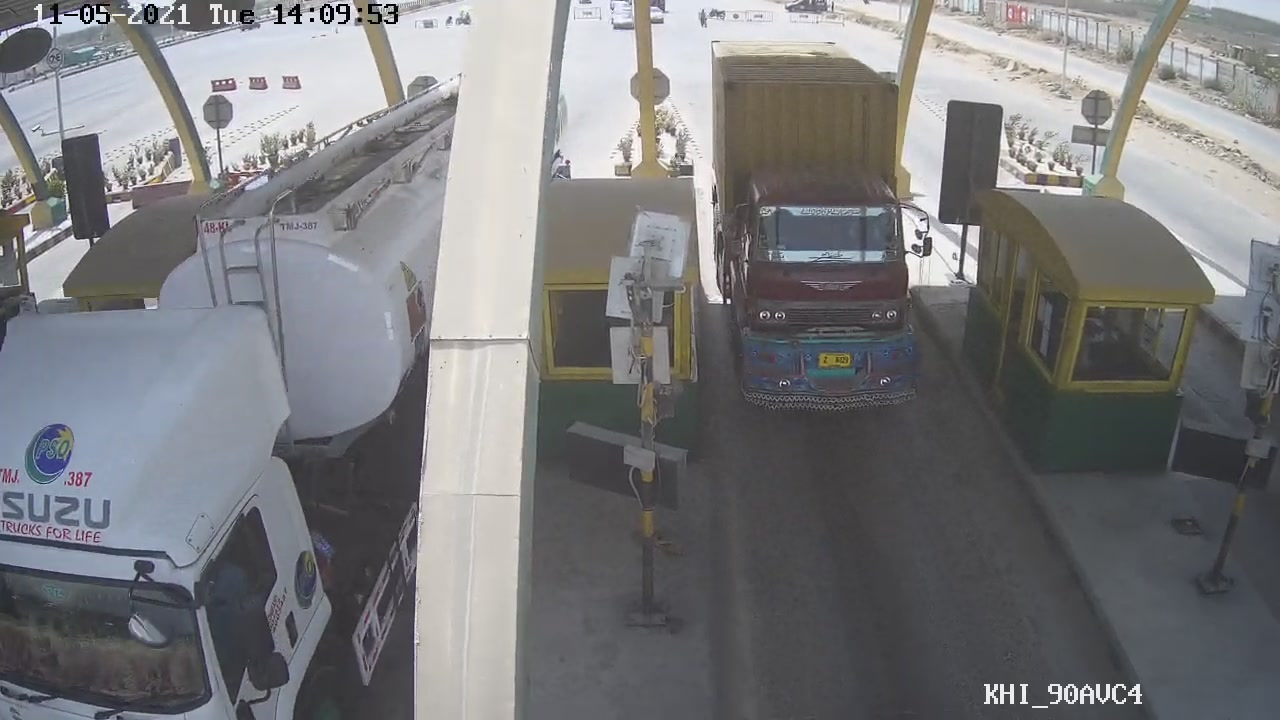F6: (705, 24, 918, 429)
